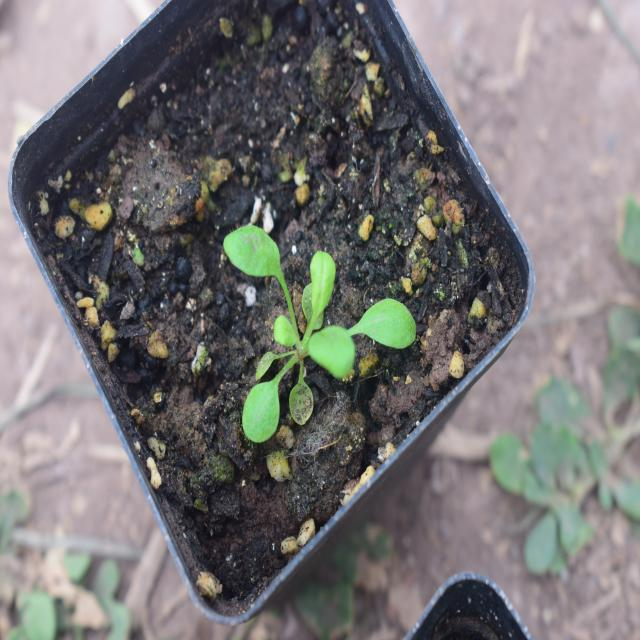Shepherd_Purse: (207, 207, 408, 420)
